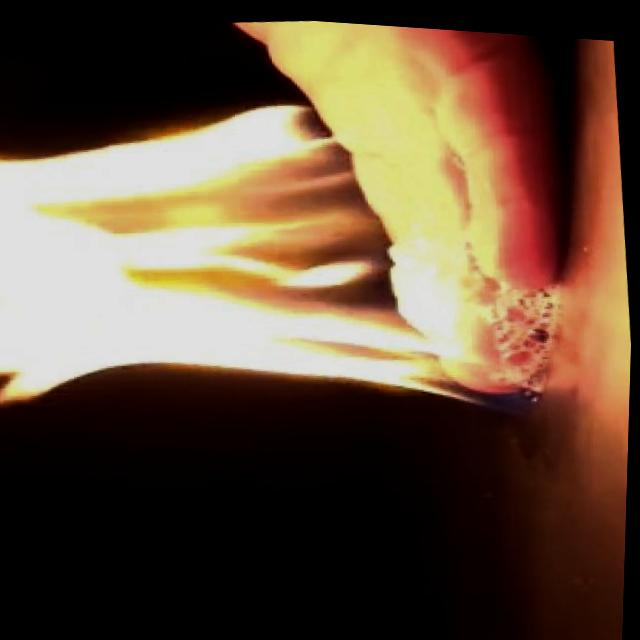Fire: (0, 57, 546, 452)
